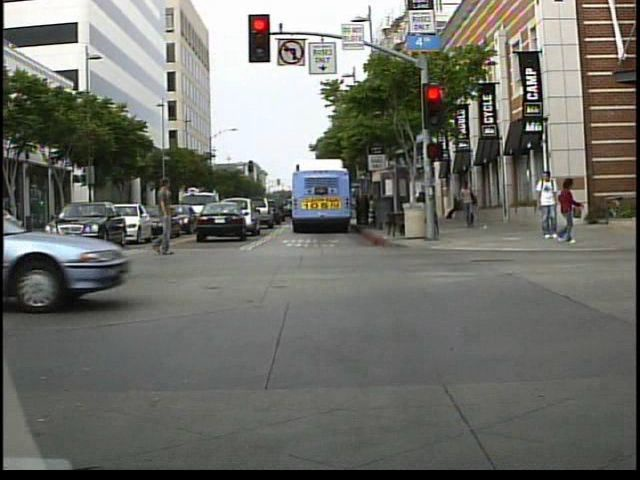person: (142, 177, 186, 258), (550, 175, 585, 246)
